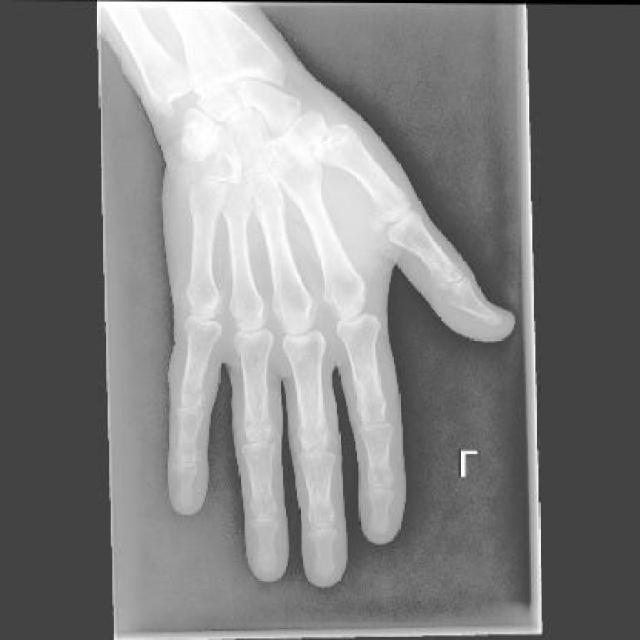Fracture: (314, 123, 359, 170)
